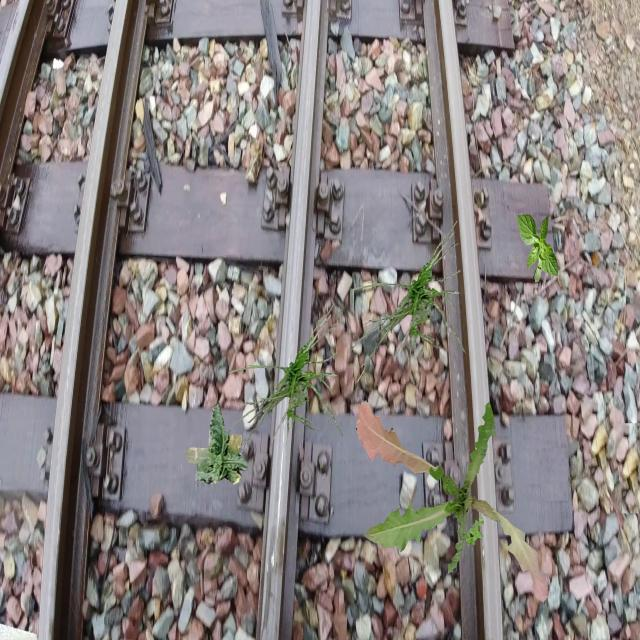Plant: (356, 400, 548, 602), (227, 303, 346, 467), (349, 220, 468, 384), (185, 402, 248, 485), (517, 212, 558, 283), (465, 516, 484, 548)
